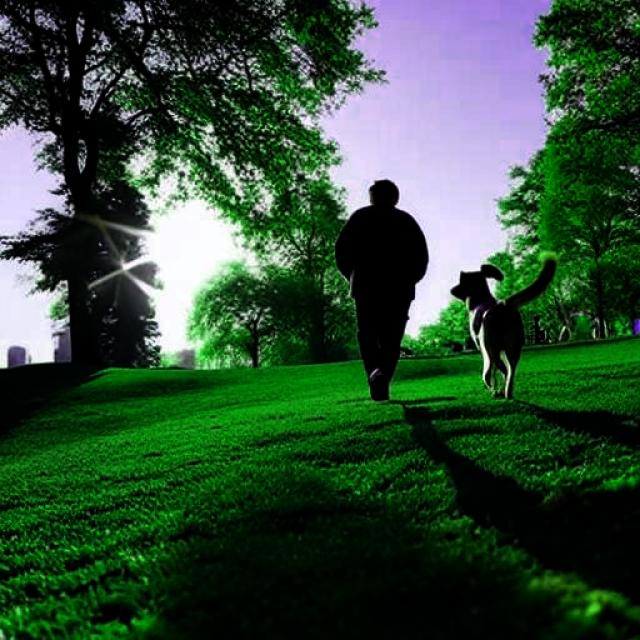Unleashed_Dog: (351, 252, 558, 399)
